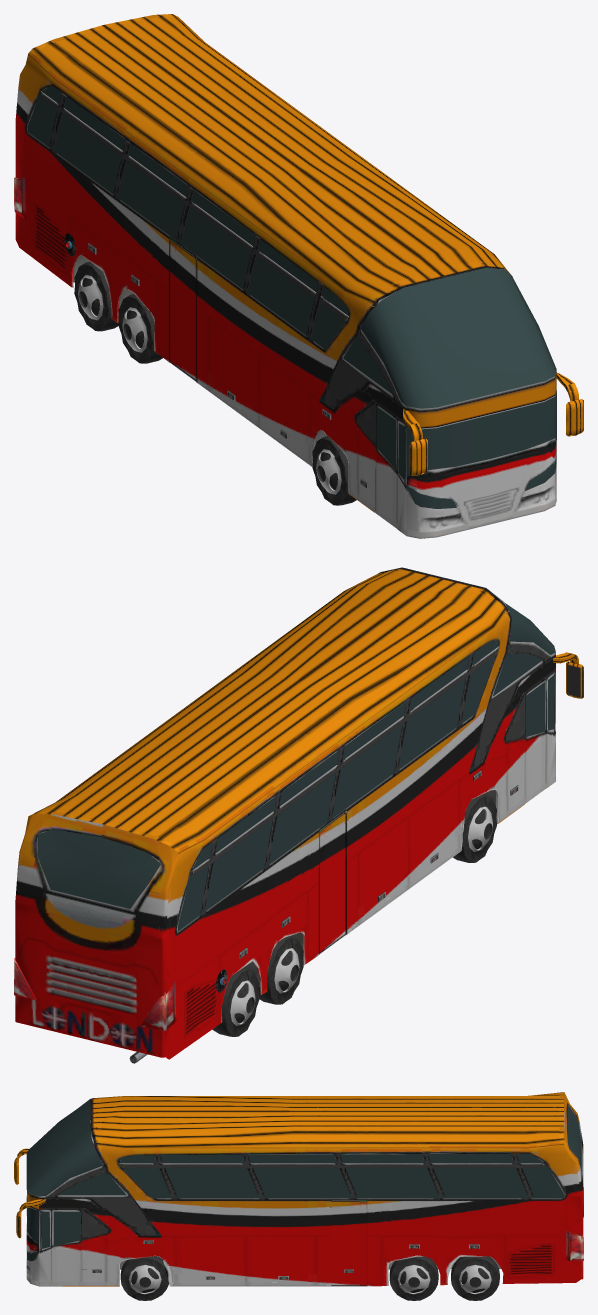
The picture shows the model from 3 angles, top to bottom: view 1: azimuth 30°, elevation 25°; view 2: azimuth 150°, elevation 25°; view 3: azimuth 270°, elevation 25°; orthographic projection. The views are drawn at different scales.
Parts seen in each view (by area): view 1: bus body, inside and glass, door 2, door, Wheel RR 2, Wheel FR, Wheel RR; view 2: bus body, inside and glass, door 2, door, Wheel RR 2, Wheel RR, Wheel FR; view 3: bus body, inside and glass, Wheel RL 2, Wheel RL, Wheel FL.
Boxes of the visible parts, <box> form: bus body: <box>15,14,583,538</box>; inside and glass: <box>14,85,556,538</box>; door 2: <box>170,236,195,381</box>; door: <box>375,402,397,528</box>; Wheel RR 2: <box>74,261,119,331</box>; Wheel FR: <box>312,436,356,505</box>; Wheel RR: <box>118,294,162,363</box>; bus body: <box>15,567,583,1059</box>; inside and glass: <box>14,567,580,1059</box>; door 2: <box>319,809,345,953</box>; door: <box>524,678,546,803</box>; Wheel RR 2: <box>212,967,259,1036</box>; Wheel RR: <box>259,935,303,1004</box>; Wheel FR: <box>453,794,496,862</box>; bus body: <box>14,1092,583,1286</box>; inside and glass: <box>26,1099,583,1286</box>; Wheel RL 2: <box>451,1256,499,1300</box>; Wheel RL: <box>389,1256,438,1300</box>; Wheel FL: <box>120,1256,168,1300</box>.
Bounding box in the file's own units: 23.33 × 30.37 × 94.42.
